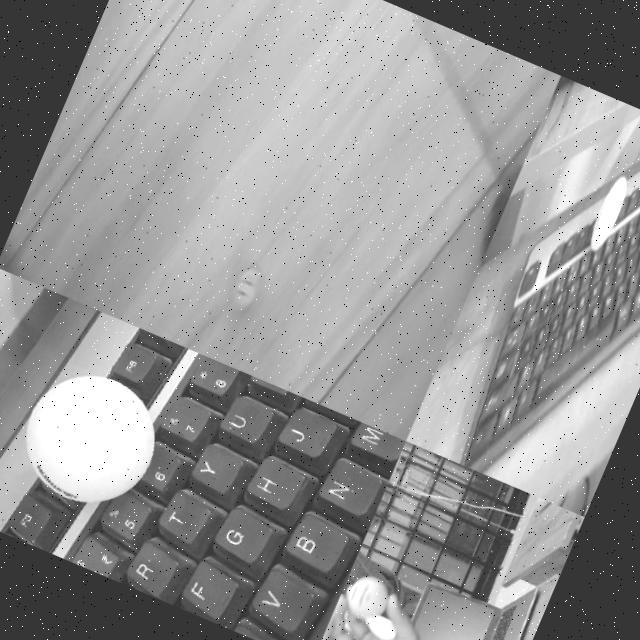ping-pong-ball: (6, 356, 178, 524), (586, 170, 634, 251), (341, 570, 393, 624), (225, 262, 263, 314)
